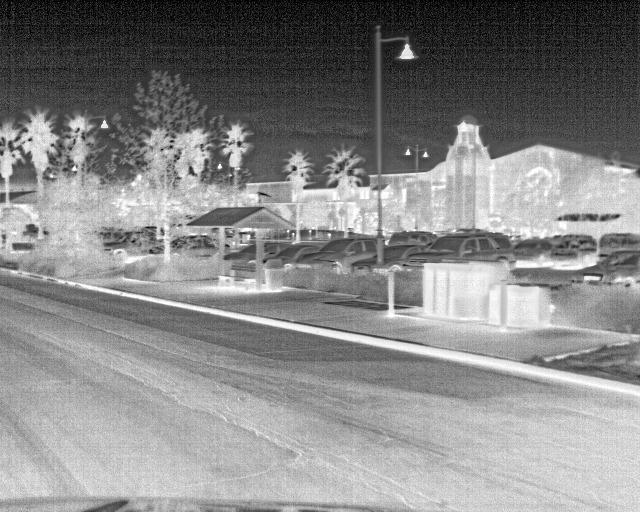car: (404, 232, 515, 266), (298, 235, 377, 267), (101, 226, 161, 262), (578, 250, 638, 281), (544, 236, 597, 271), (597, 230, 635, 263), (270, 242, 323, 262), (513, 240, 551, 263), (384, 243, 417, 263), (224, 241, 255, 262), (354, 254, 377, 270)
